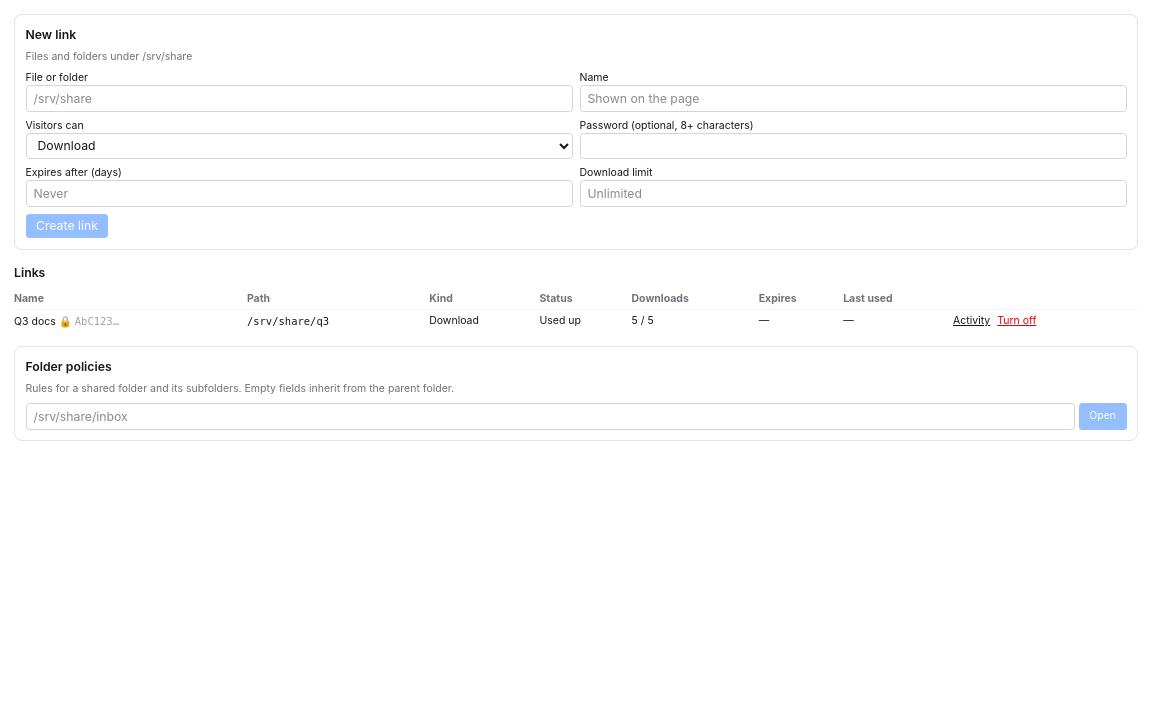
Test: share links panel › shows activity and turns a link off
Click the button "Activity".
click(972, 321)  # box [953,314,990,328]
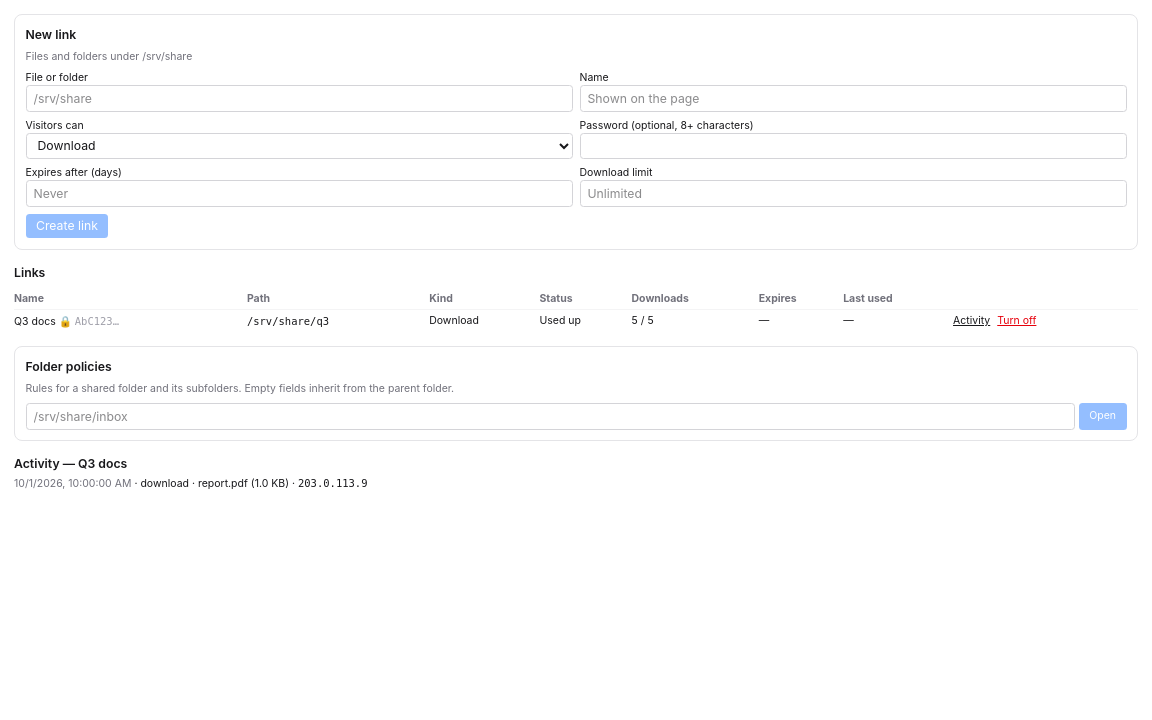
Expected: the element named "Link activity" shows "report.pdf (1.0 KB)", [192,477,289,490]
Click the button with aria-label "Turn off Q3 docs".
click(1017, 321)  # box [997,314,1036,328]
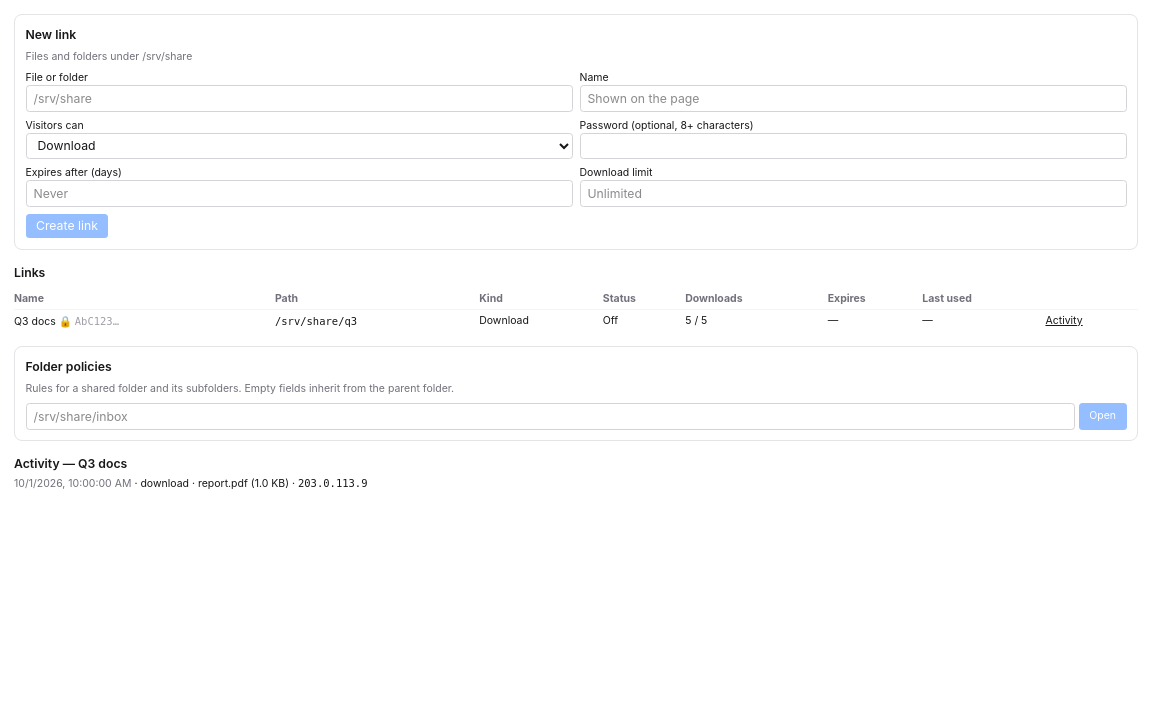
Expected: the text "Off" is shown, [603,310,685,332]
